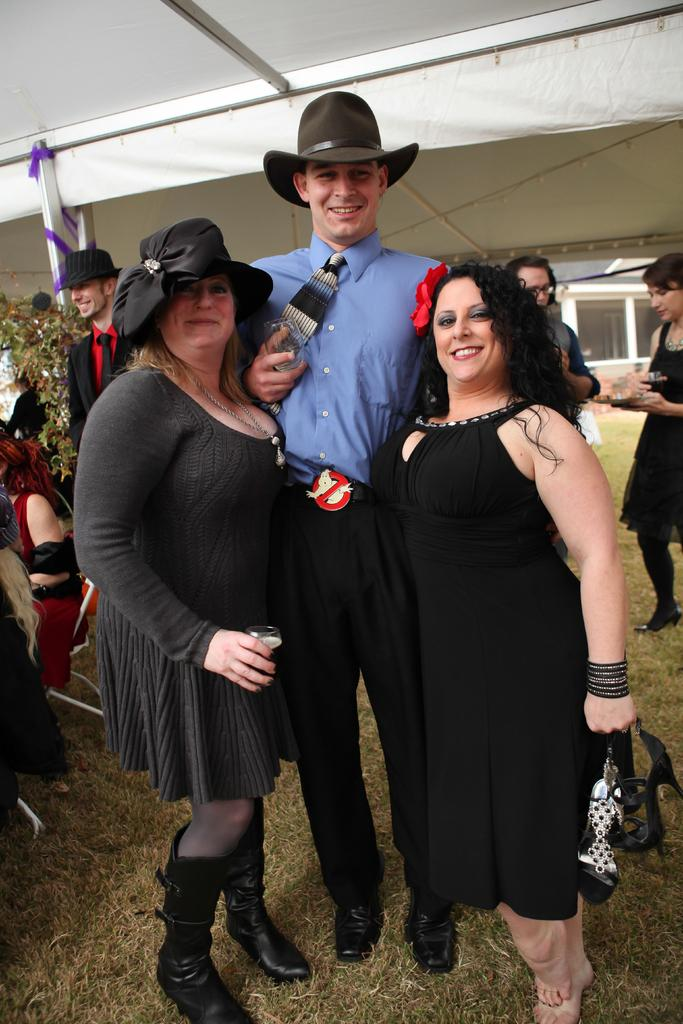Hat: (113, 218, 274, 340), (261, 88, 421, 204), (52, 245, 119, 291)
